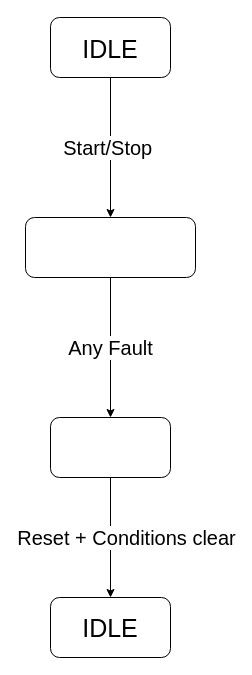
Image size: 252x675. Some labels were removed from this diagram. The shapes that lost their labels are listed below. From the top down, each one's centre as x and y in pixels, then its label:
At [110,247]: "RUNNING".
At [110,447]: "FAULT".
